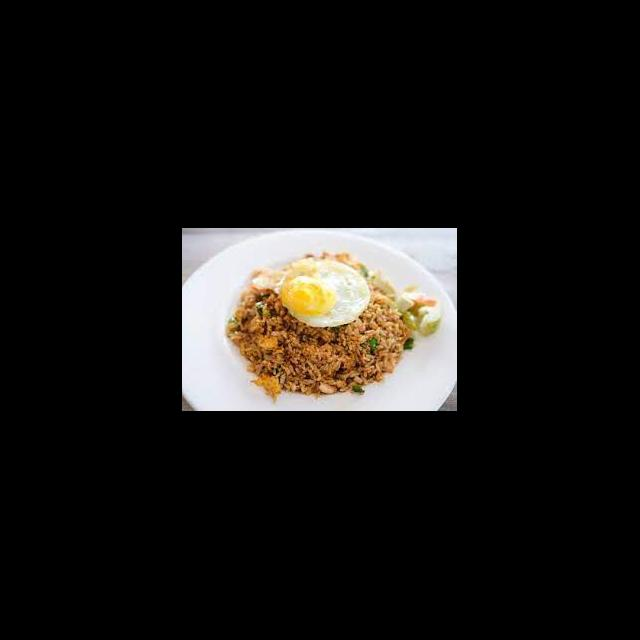food_waste: (243, 281, 400, 382)
